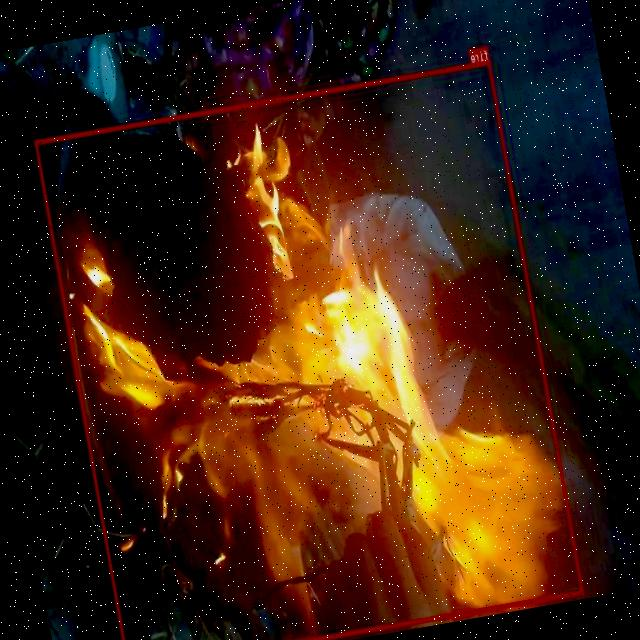fire: (34, 58, 583, 640)
